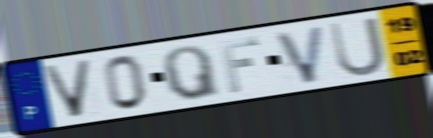0: (101, 51, 150, 112)
F: (217, 35, 262, 95)
Q: (160, 43, 223, 103)
U: (327, 14, 388, 79)
V: (39, 57, 96, 120), (272, 22, 328, 86)
